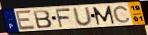B: (32, 9, 54, 30)
C: (112, 6, 132, 24)
E: (15, 9, 37, 31)
F: (54, 7, 72, 28)
M: (92, 5, 117, 26)
U: (72, 6, 94, 27)
